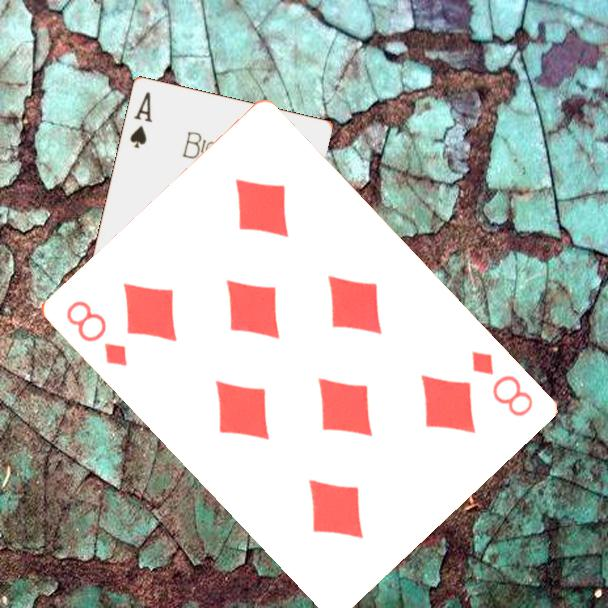d08: (467, 347, 536, 420), (62, 296, 130, 370)
s01: (126, 87, 155, 151)
